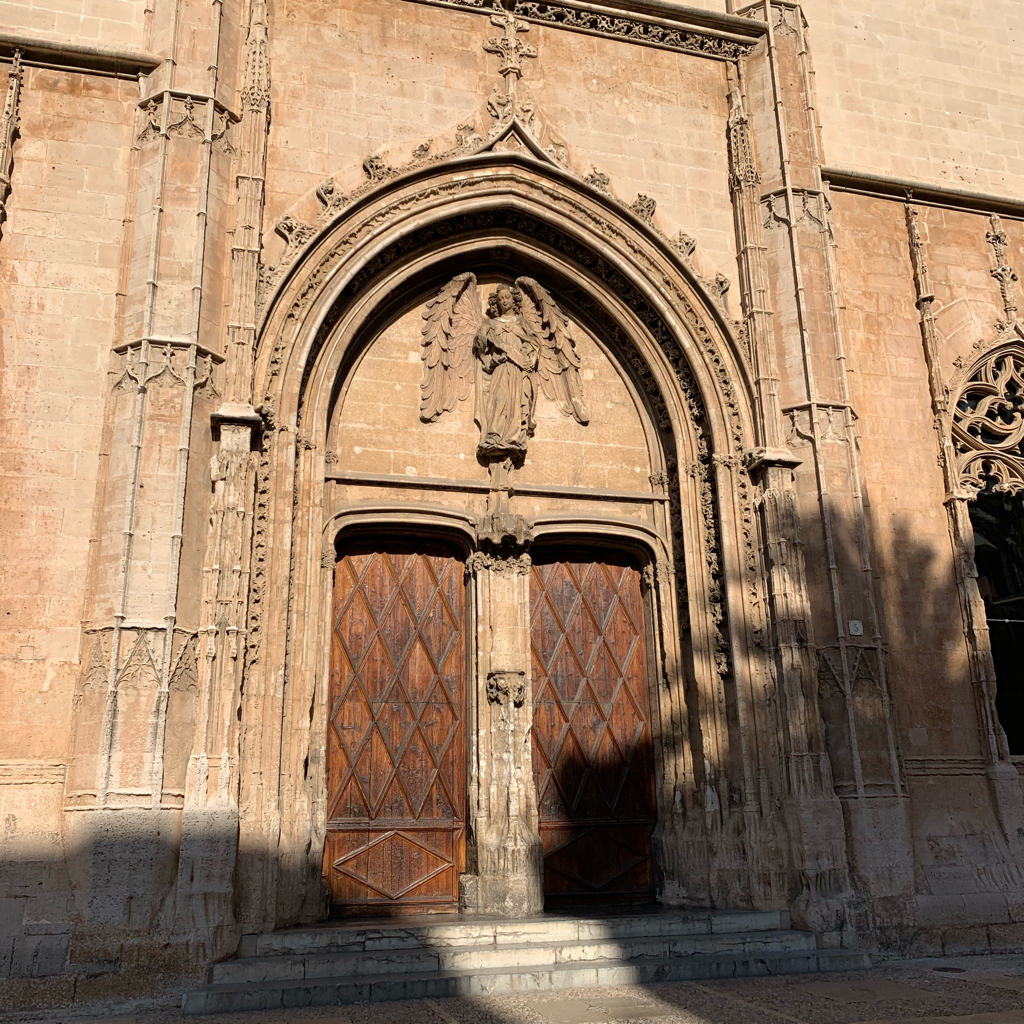arco-apuntado: (292, 170, 721, 473)
arco-conopial: (348, 116, 640, 215)
